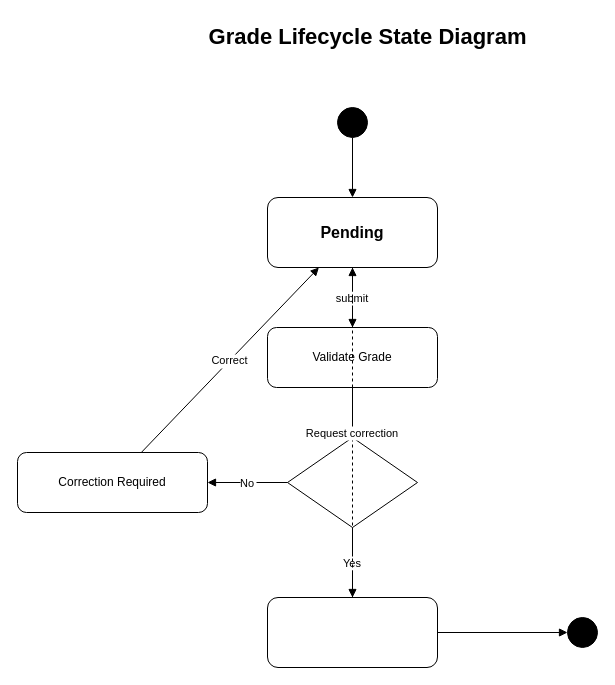
This 615x685 diagram has some shape labels left out. The shapes that lost their labels are listed below. From the top down, each one's box as (x1, y1, x2, y2) in pixels, then its label:
(286, 436, 418, 528): Valid?
(266, 596, 438, 668): Submitted
